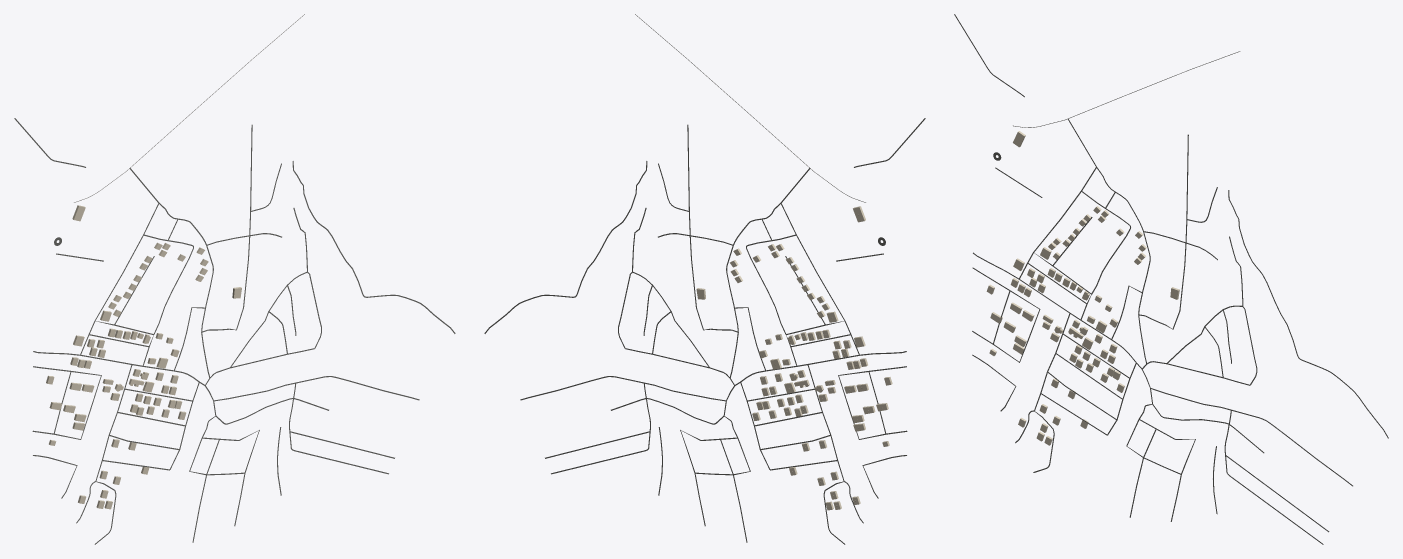
The model's file is historic-palestine-11_30_3530_3248.glb.
3 views of the same model, side by side, from view 1: azimuth 30°, elevation 25°; view 2: azimuth 150°, elevation 25°; view 3: azimuth 330°, elevation 25° (orthographic).
Visible parts, largest first — view 1: Road .038; view 2: Road .038; view 3: Road .038.
Boxes of the visible parts, bbox=[...] form: Road .038: bbox=[33, 351, 419, 401]; Road .038: bbox=[520, 351, 906, 401]; Road .038: bbox=[973, 252, 1352, 486].
Size of the model in its own units: 1324 by 1437 by 8.7.
